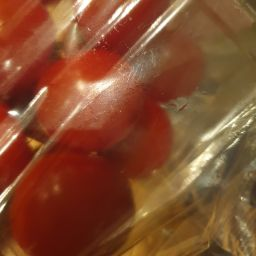Pea tomatoes: (13, 43, 152, 151), (18, 141, 133, 256), (97, 103, 185, 203), (124, 24, 205, 102), (5, 10, 71, 92)
